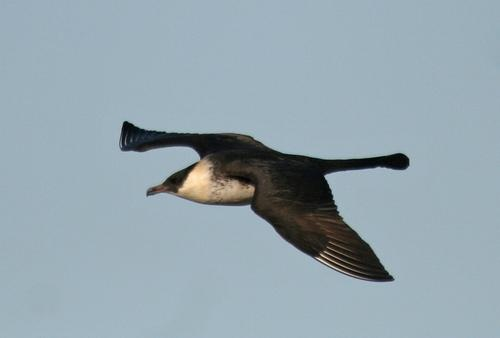bird: (116, 117, 412, 284)
